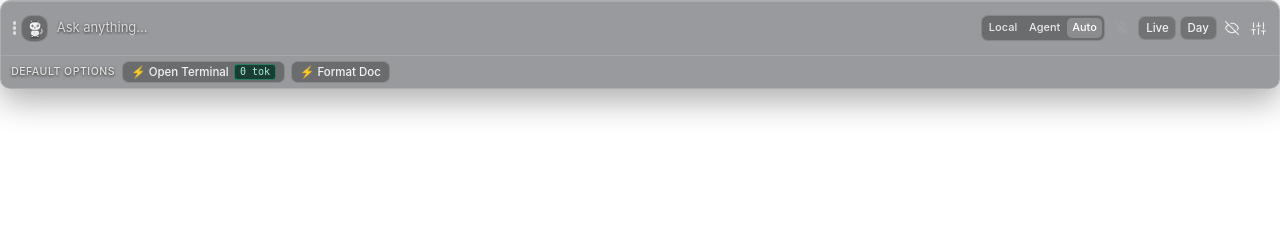
Test case: FloatingBar › renders terminal variant with monospace command box and emerald Copy confirmation
Step 1. Type "undo last git commit" into the field with test id "bar-query-input" → (515, 28), box [52, 18, 978, 37]
Then press Enter
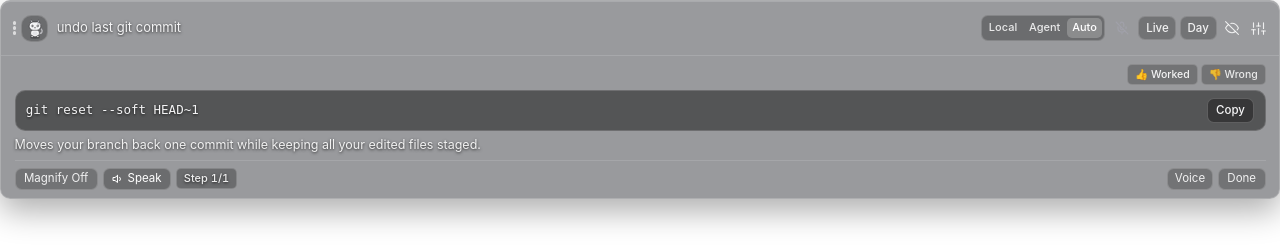
Expected: the element with test id "terminal-variant" is shown, [14, 90, 1266, 153]
Expected: the text with test id "terminal-command-text" reads "git reset --soft HEAD~1", [26, 102, 199, 118]
Expected: the text with test id "terminal-explanation" reads "Moves your branch back one commit while keeping all your edited files staged.", [14, 137, 481, 152]
Step 2. Click the button with test id "copy-command-btn" → (1230, 110), box [1207, 98, 1254, 123]
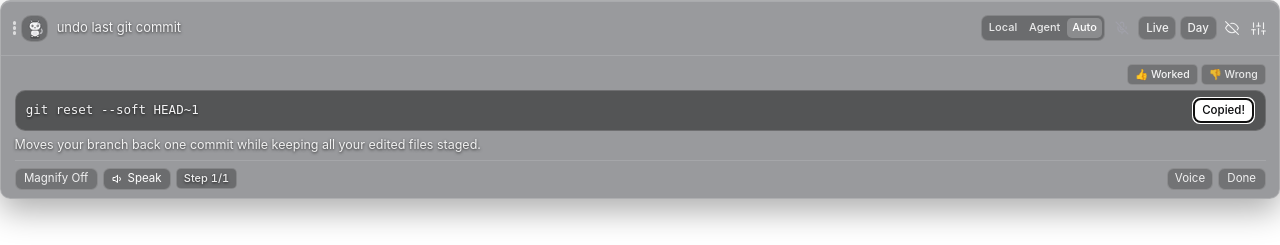
Expected: the button with test id "copy-command-btn" reads "Copied!", [1193, 98, 1254, 123]
